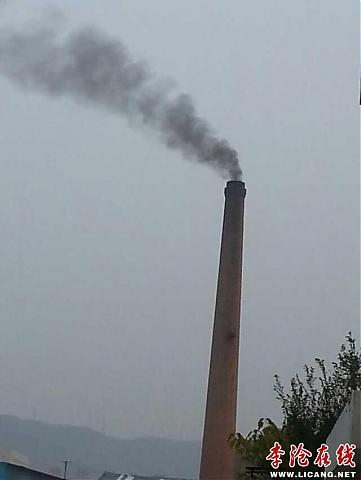dust: (51, 37, 256, 192)
